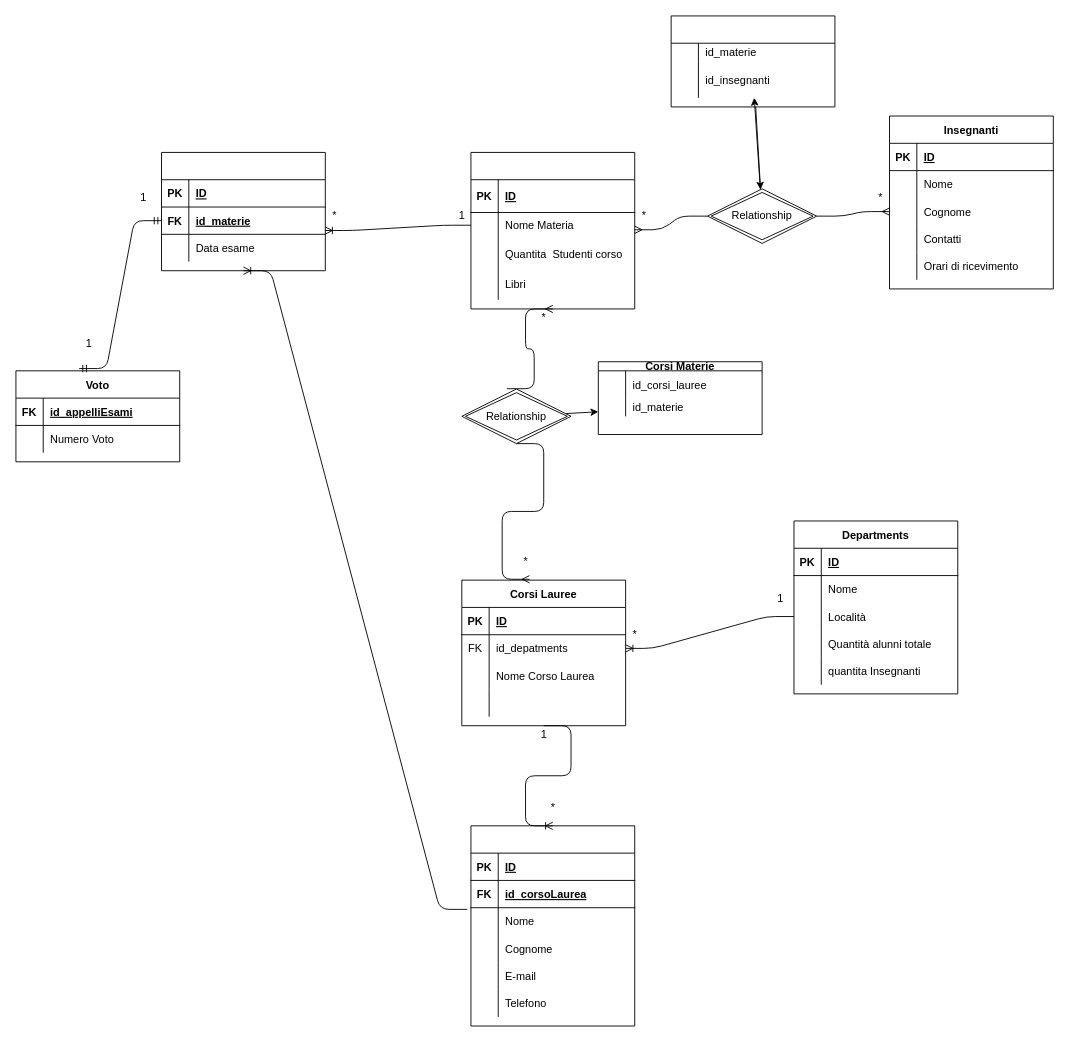
This 1069x1042 diagram has some shape labels left out. The box of each missing label's shape, as (x1, y1, x2, y2) in pixels:
Alunni: (470, 825, 635, 1026)
Appelli Esami: (161, 152, 325, 271)
Insegnanti/materie: (670, 15, 835, 107)
Materie(Corsi): (470, 152, 635, 309)
